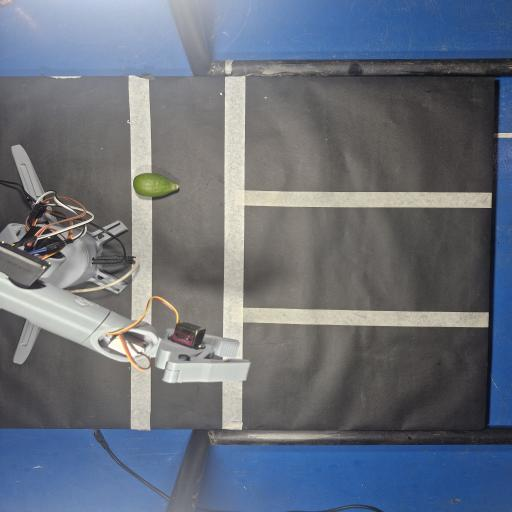higo: (133, 173, 179, 197)
